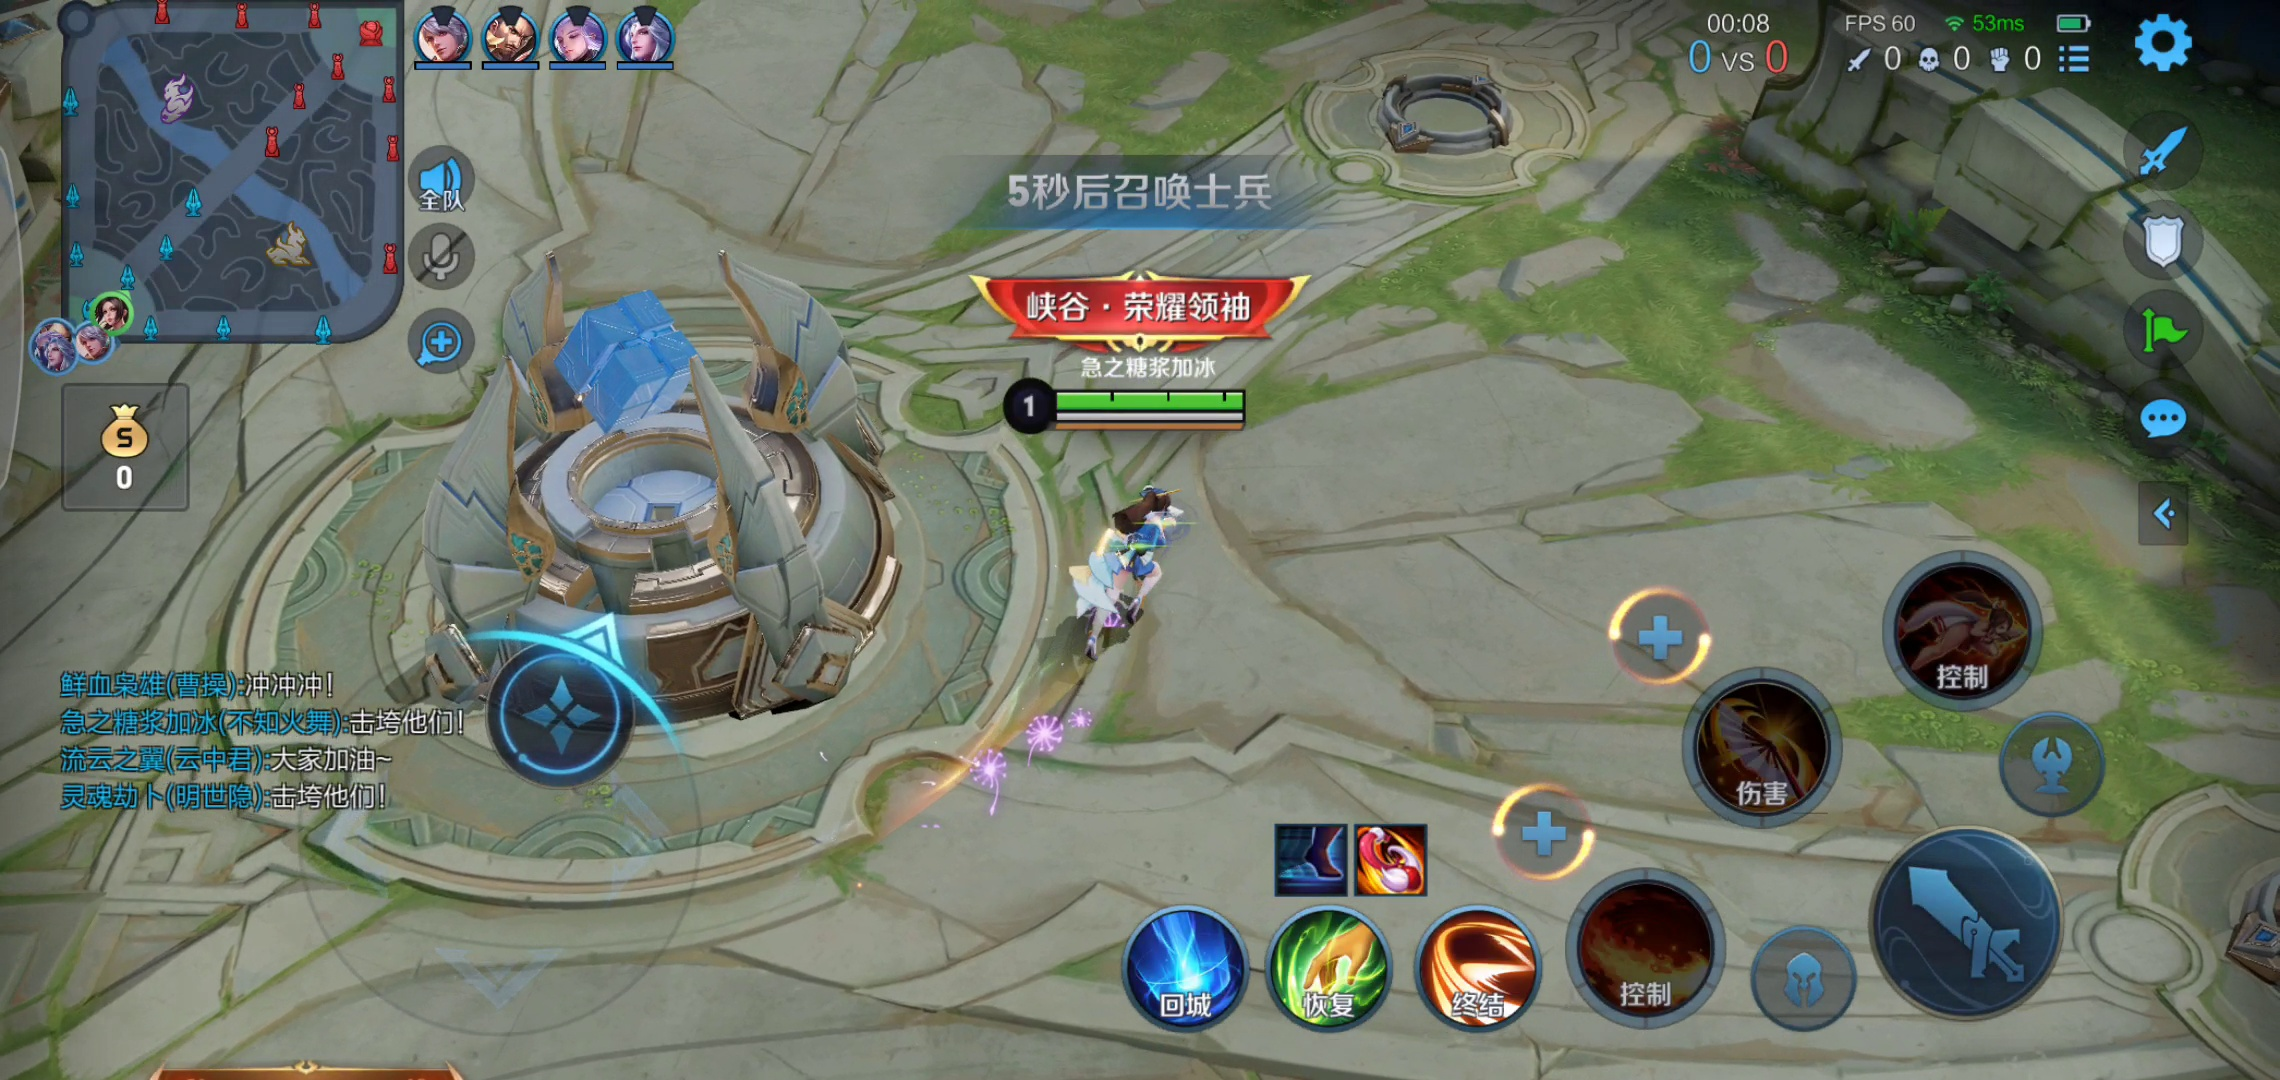crystal: (400, 272, 926, 736)
hero: (1060, 470, 1203, 666)
